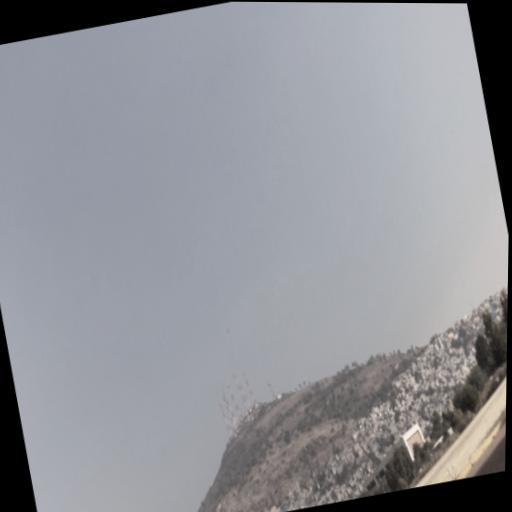drones: (225, 327, 232, 334)
